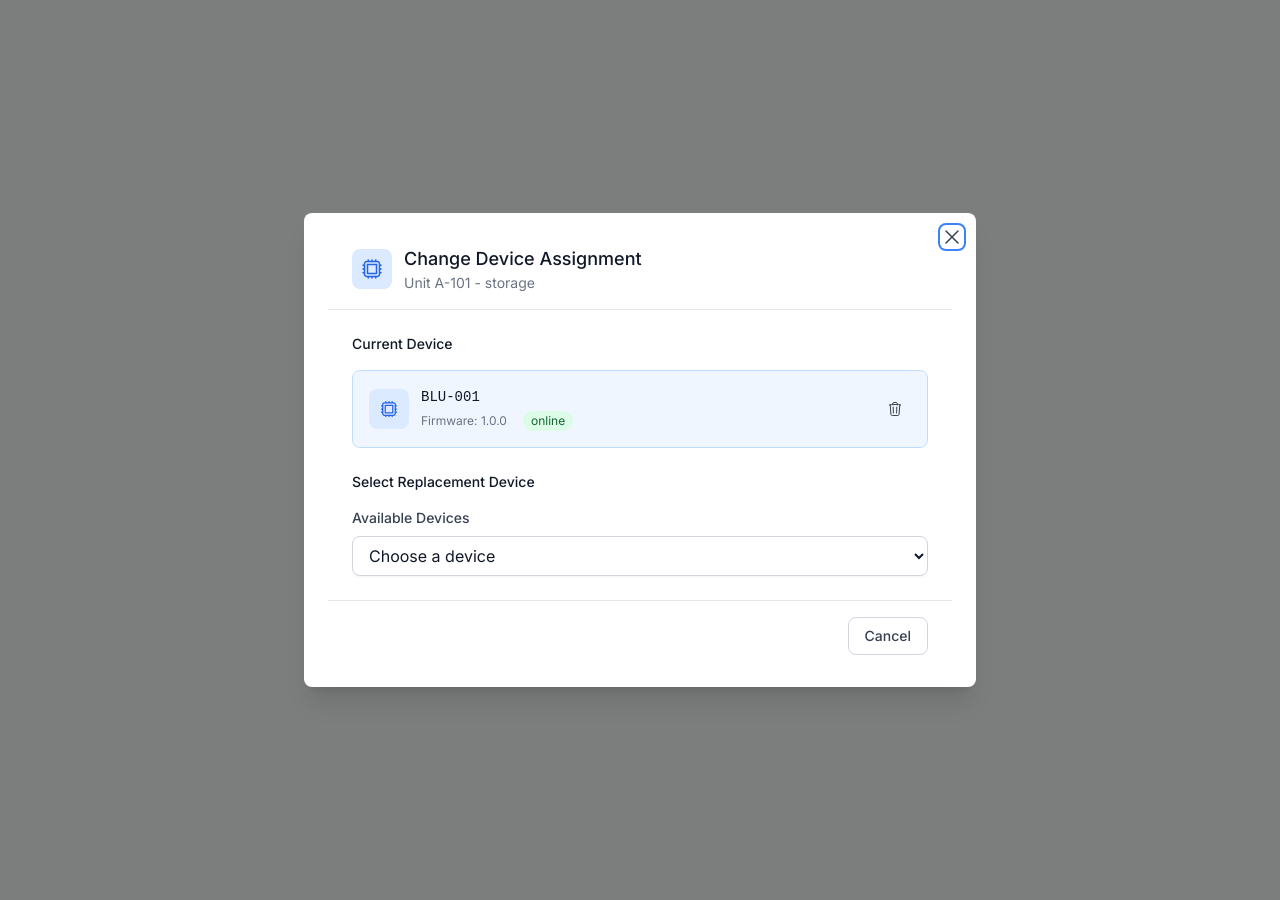
Scenario: DeviceAssignmentModal › Device Unassignment › should show confirmation modal when unassign button is clicked
The width and height of the screenshot is (1280, 900).
Expected: the button named "Close" is shown, 940,225 -> 964,249
Click the 2nd button: (895, 409) 879,393 -> 911,425
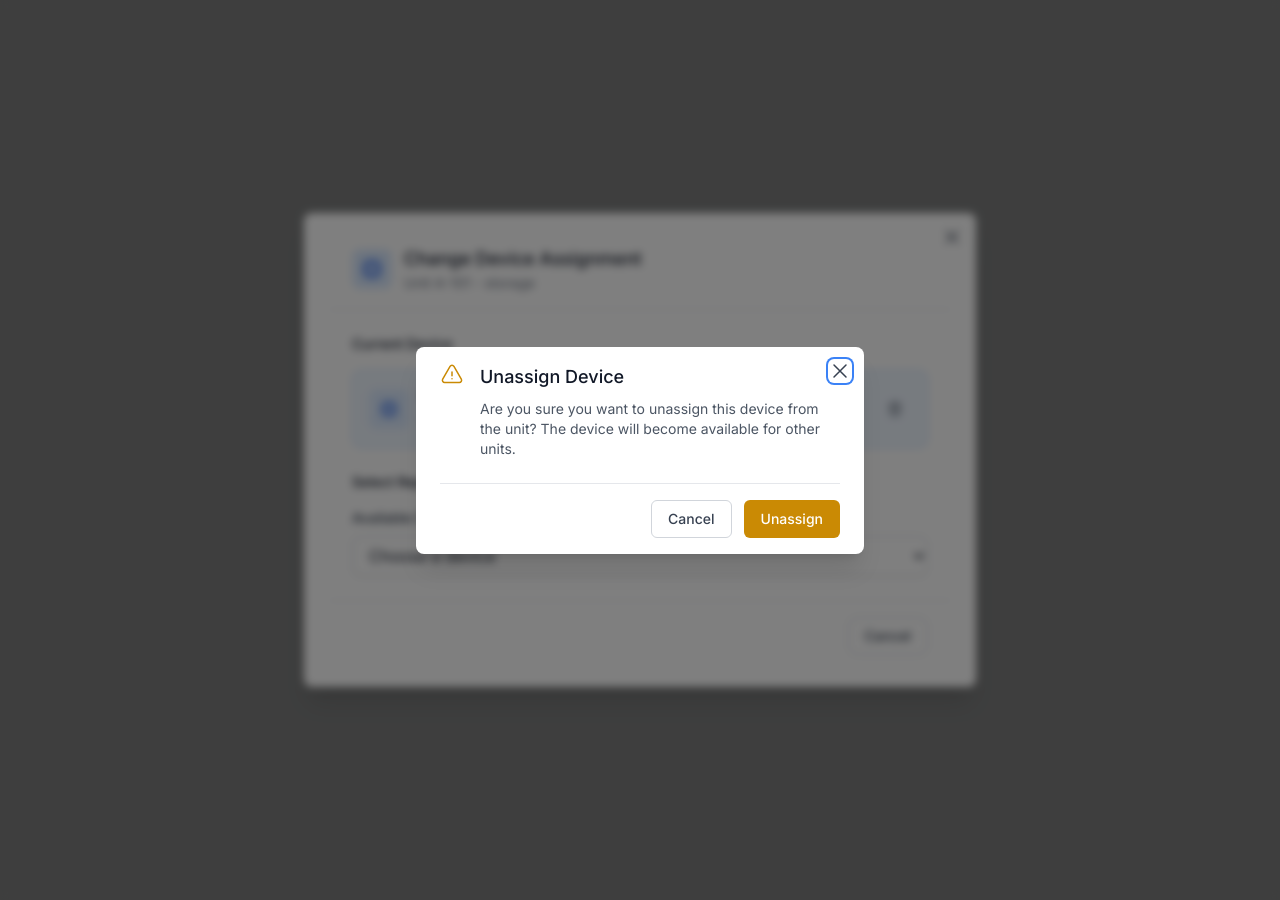
Expected: the heading "Unassign Device" is shown, 480,366 -> 624,386
